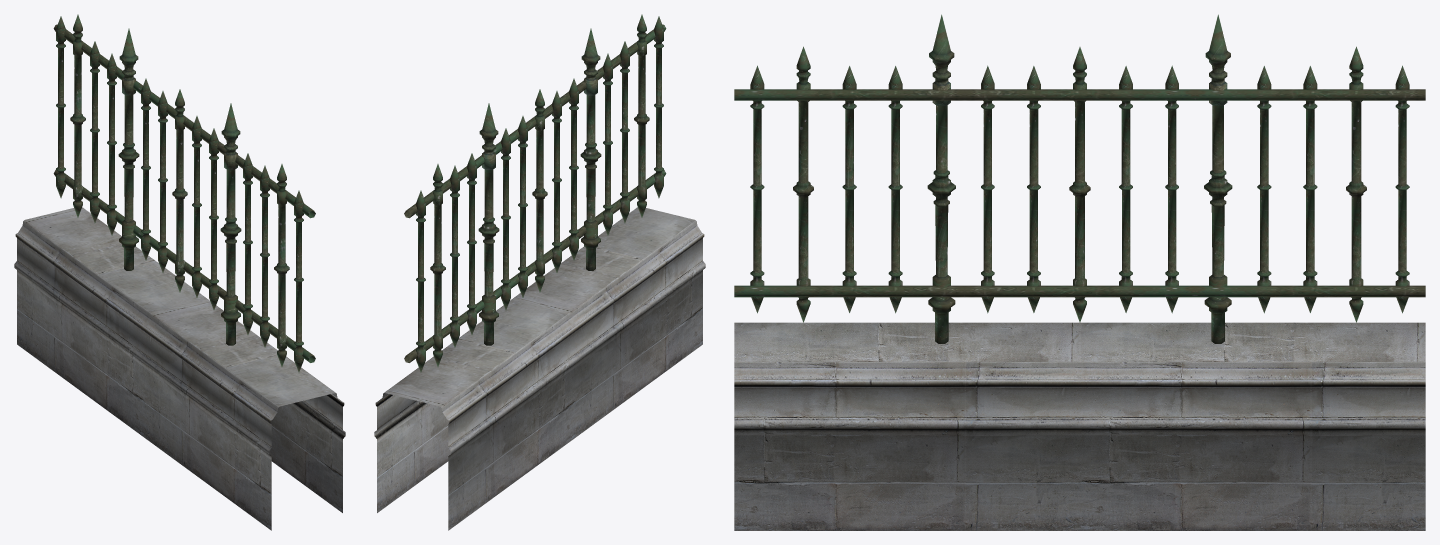
The model's file is StoneFence_Wall_LOD0.fbx.
The picture shows the model from 3 angles, left to right: view 1: azimuth 30°, elevation 25°; view 2: azimuth 150°, elevation 25°; view 3: azimuth 270°, elevation 25°; orthographic projection. The views are drawn at different scales.
Parts seen in each view (by area): view 1: StoneFence_Wall_LOD; view 2: StoneFence_Wall_LOD; view 3: StoneFence_Wall_LOD.
Part boxes in pixels (left/top/right/bottom): StoneFence_Wall_LOD: left=14, top=14, right=345, bottom=530; StoneFence_Wall_LOD: left=374, top=14, right=705, bottom=530; StoneFence_Wall_LOD: left=734, top=14, right=1425, bottom=530.
Size of the model in its own units: 52.03 by 236 by 300.
